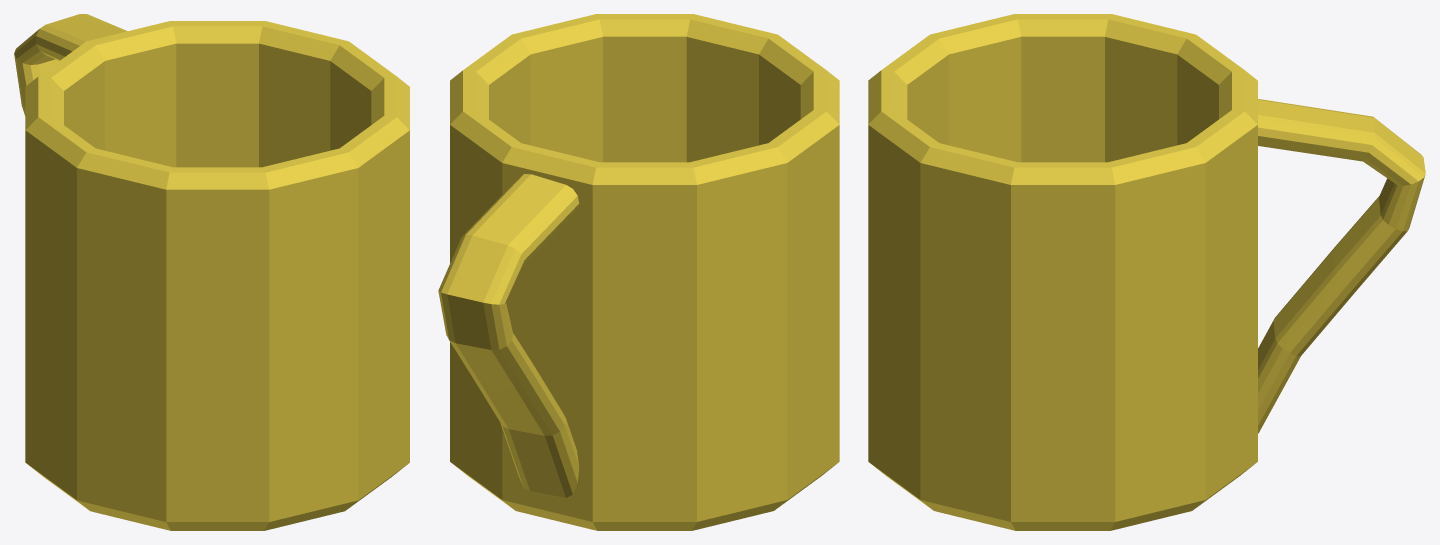
The model's file is eastercup.fbx.
The picture shows the model from 3 angles, left to right: view 1: azimuth 30°, elevation 25°; view 2: azimuth 150°, elevation 25°; view 3: azimuth 270°, elevation 25°; orthographic projection.
Visible parts, largest first — view 1: Cylinder; view 2: Cylinder; view 3: Cylinder.
Boxes of the visible parts, left/top/right/bottom form: Cylinder: left=14, top=14, right=409, bottom=530; Cylinder: left=438, top=14, right=839, bottom=530; Cylinder: left=868, top=14, right=1425, bottom=530.
Bounding box in the file's own units: 193 × 200 × 276.
